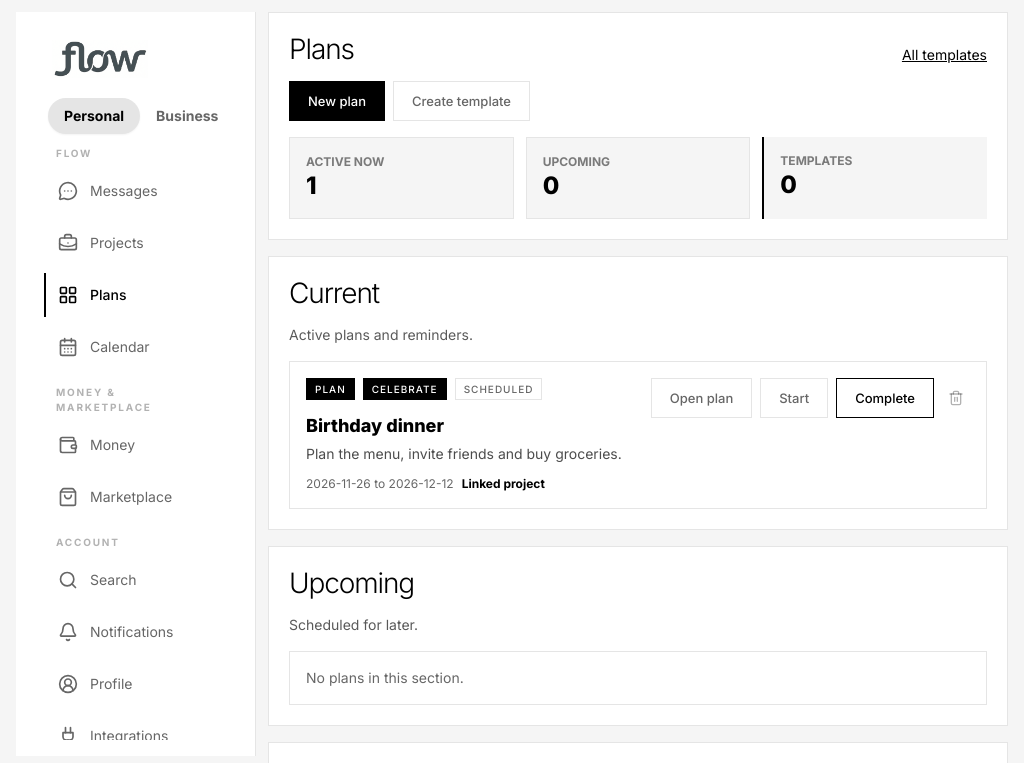
Test: keeps plans visible until a new plan is requested
Expected: the field labelled "Title" is not shown
Click the button "New plan" at (337, 101), box x1=289 y1=81 x2=385 y2=121
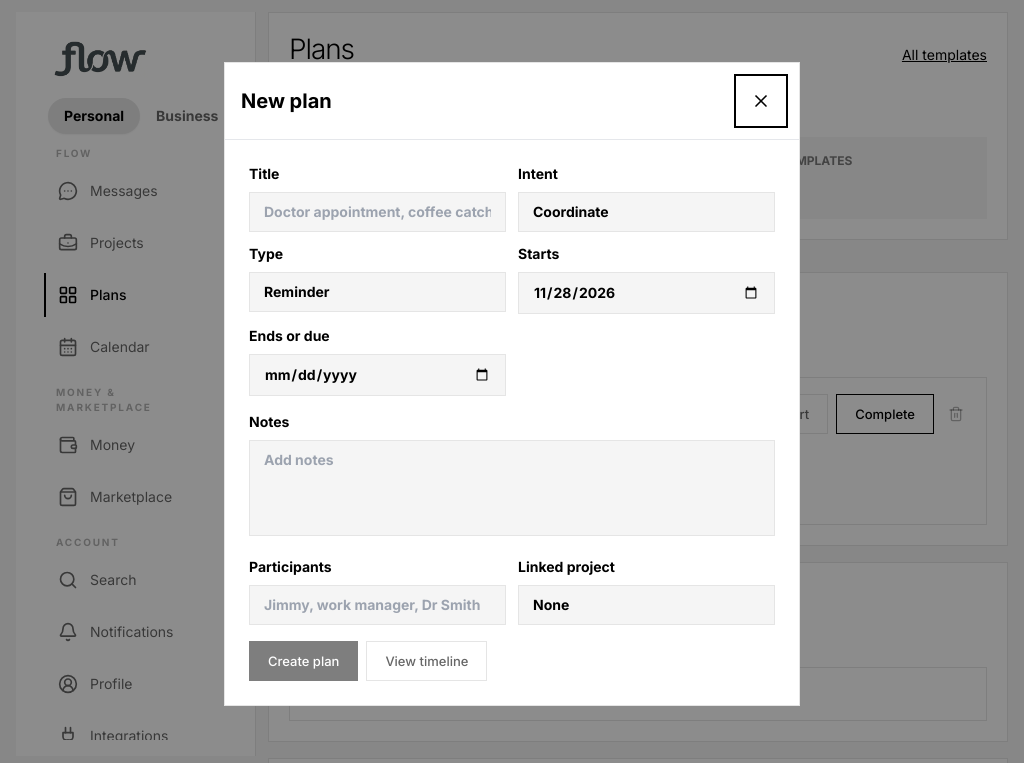
Expected: the field labelled "Title" is shown, x1=249 y1=192 x2=506 y2=232
Click the button named "Close" at (761, 101), box x1=739 y1=79 x2=783 y2=123
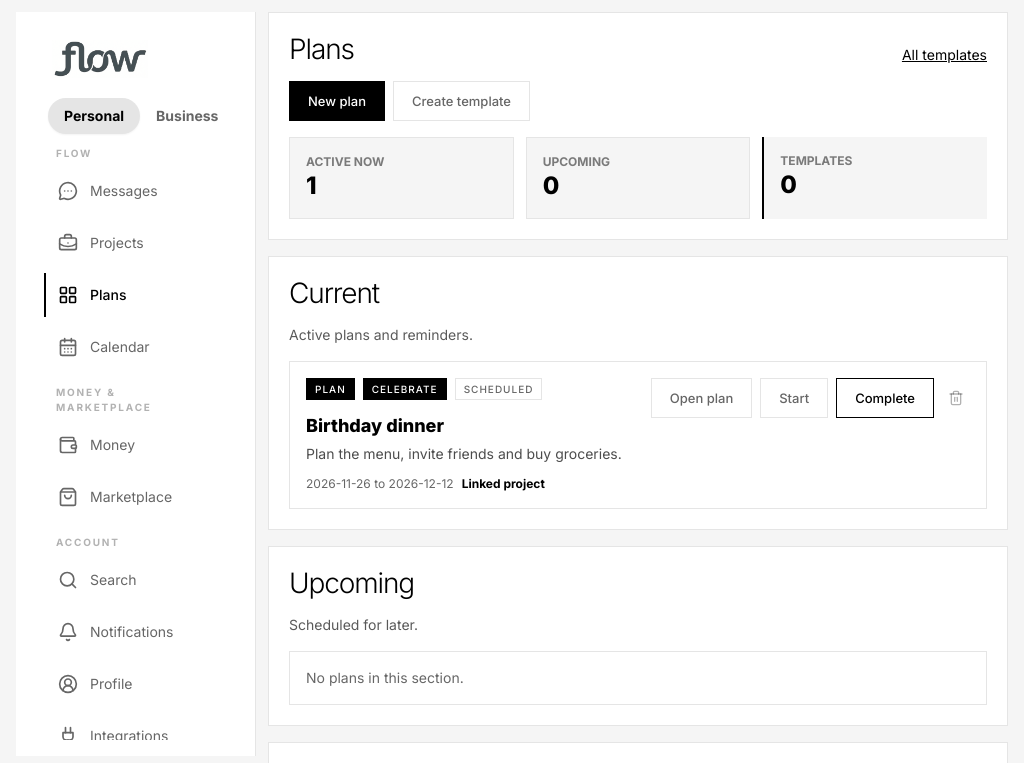
Expected: the dialog is gone
